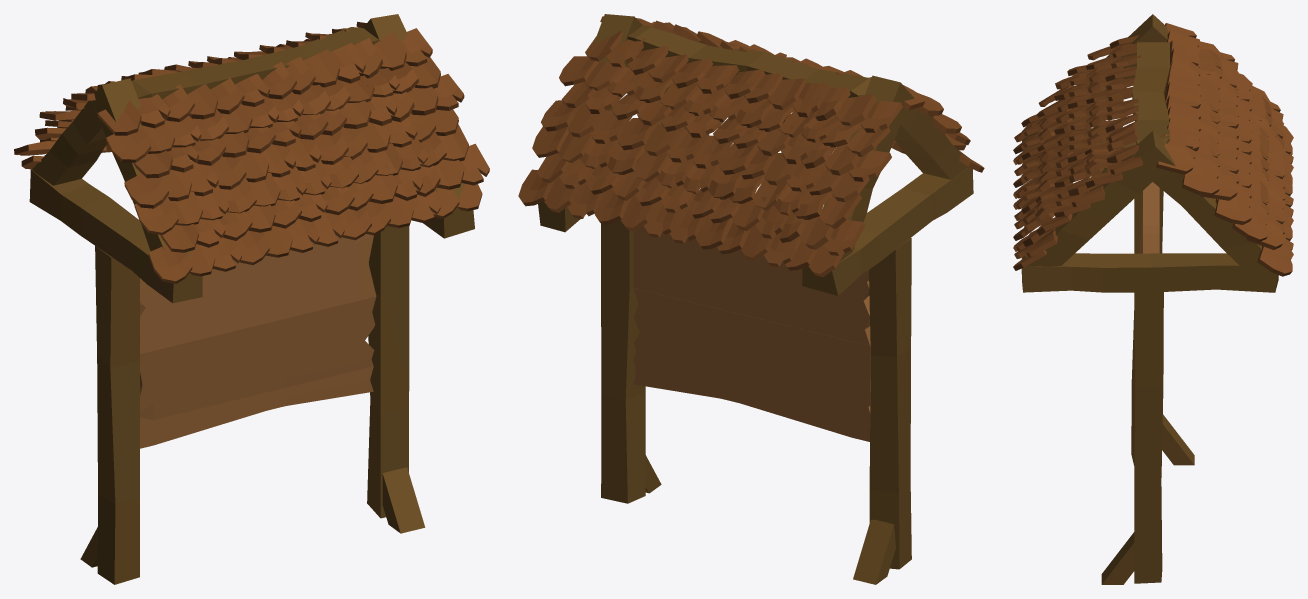
File: papan.fbx
3 views of the same model, side by side, from view 1: azimuth 30°, elevation 25°; view 2: azimuth 150°, elevation 25°; view 3: azimuth 270°, elevation 25° (orthographic). The views are drawn at different scales.
Parts seen in each view (by area): view 1: papan; view 2: papan; view 3: papan.
Part boxes in pixels (<box>): papan: <box>14,14,489,584</box>; papan: <box>518,14,984,584</box>; papan: <box>1013,14,1293,584</box>.
Size of the model in its own units: 2381 by 3319 by 1907.
